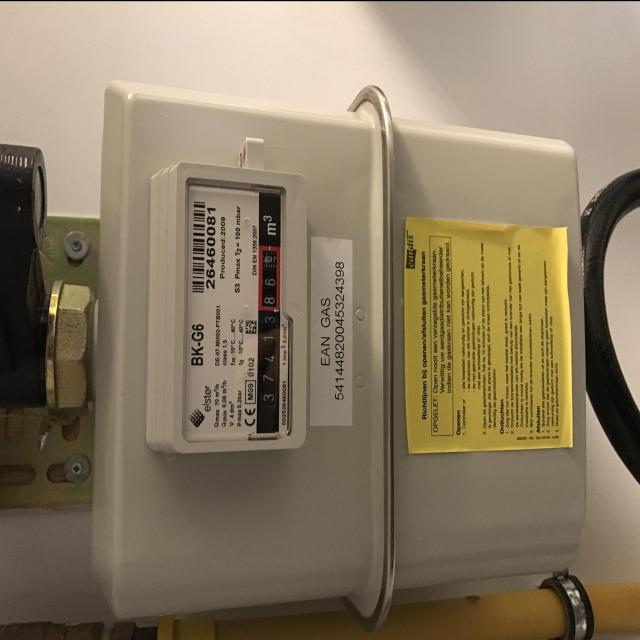gaz_meter: (180, 181, 287, 439)
indication: (258, 244, 281, 432)
